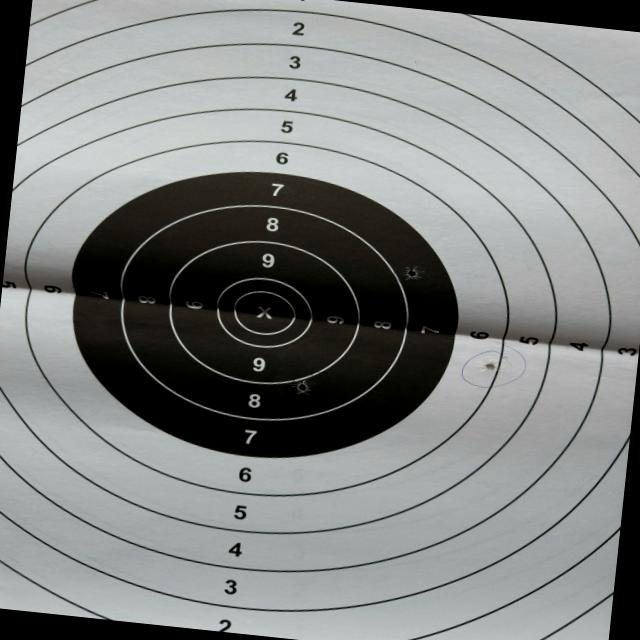bullet: (298, 383, 309, 394), (484, 361, 496, 371), (405, 269, 417, 278)
target: (0, 0, 640, 640)
